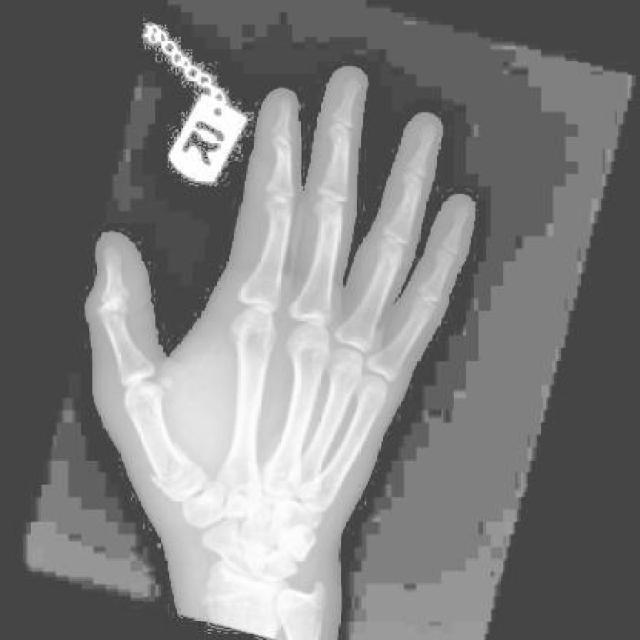Fracture: (145, 437, 208, 505)
